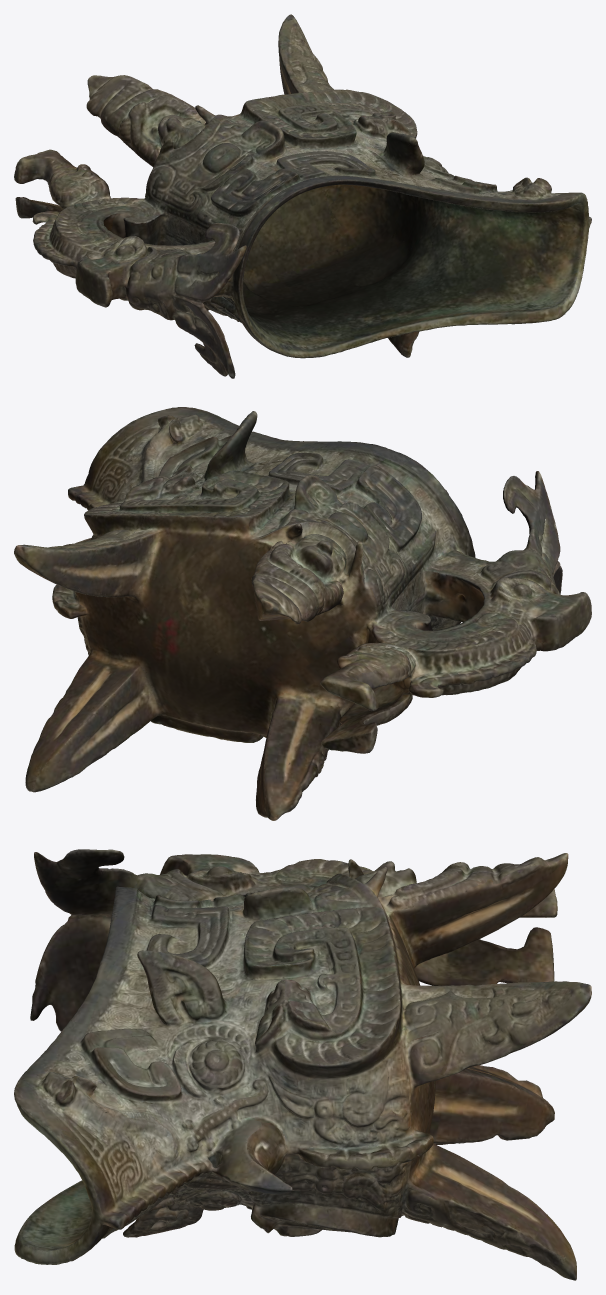
Rendered from ewer-base-200k-1024-low.glb.
3 renders of one model, top to bottom at view 1: azimuth 30°, elevation 25°; view 2: azimuth 150°, elevation 25°; view 3: azimuth 270°, elevation 25°, orthographic. The views are drawn at different scales.
Size of the model in its own units: 0.2866 by 0.1288 by 0.22.
1 material, 1 textured.
